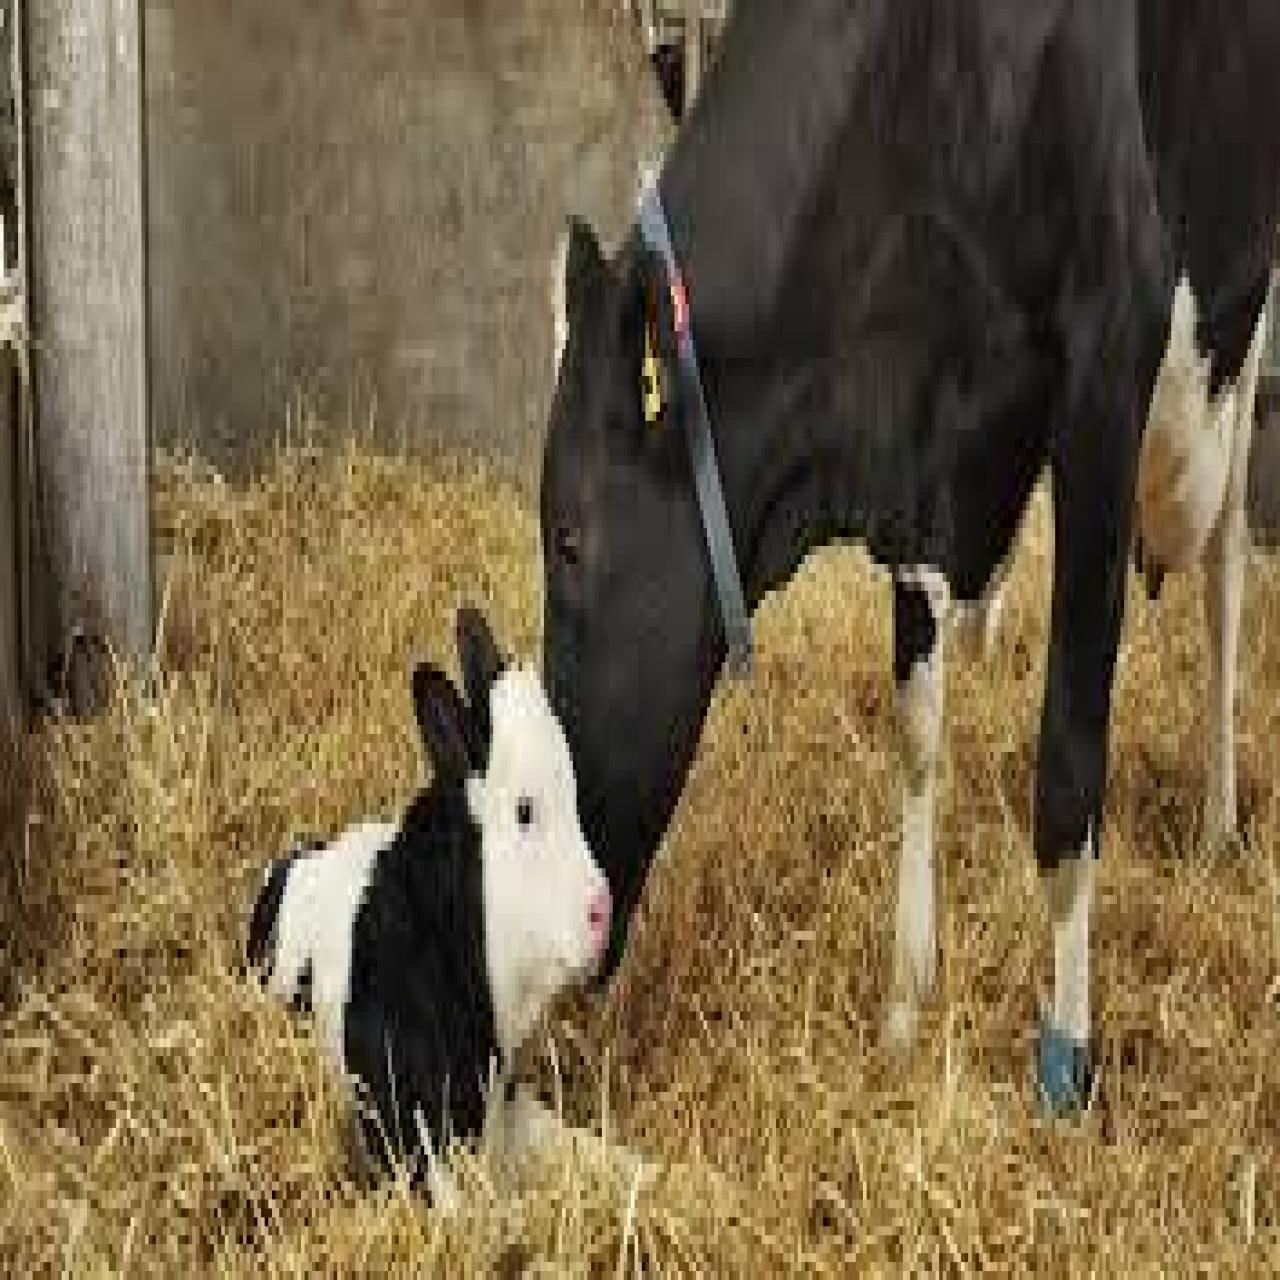cow: (540, 5, 1280, 1123), (245, 600, 666, 1217)
